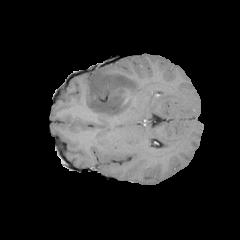glioma: (85, 67, 142, 130)
